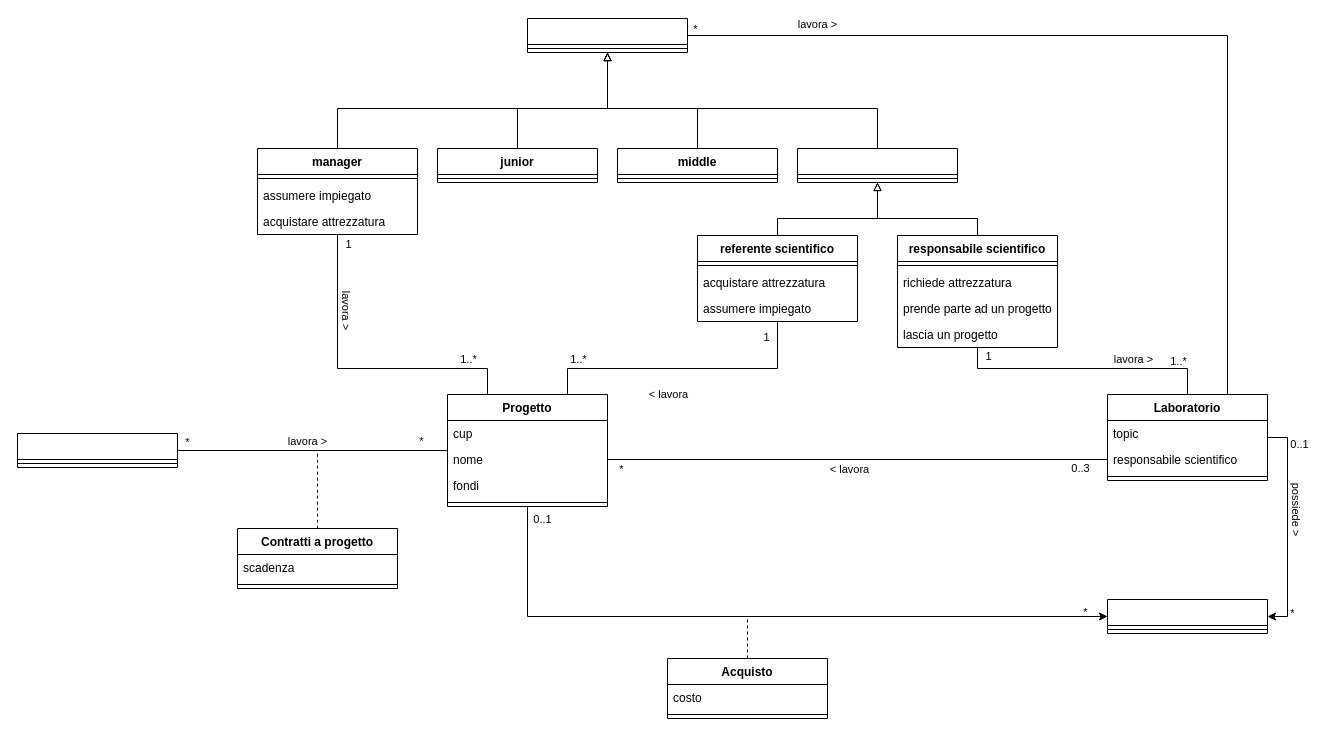
This 1325x736 diagram has some shape labels left out. The shapes that lost their labels are listed below. From the top down, each one's centre as x and y in pixels, then its label:
At [607,35]: "Impiegato".
At [877,165]: "senior".
At [97,450]: "Salariato a progetto".
At [1187,616]: "Attrezzatura".
